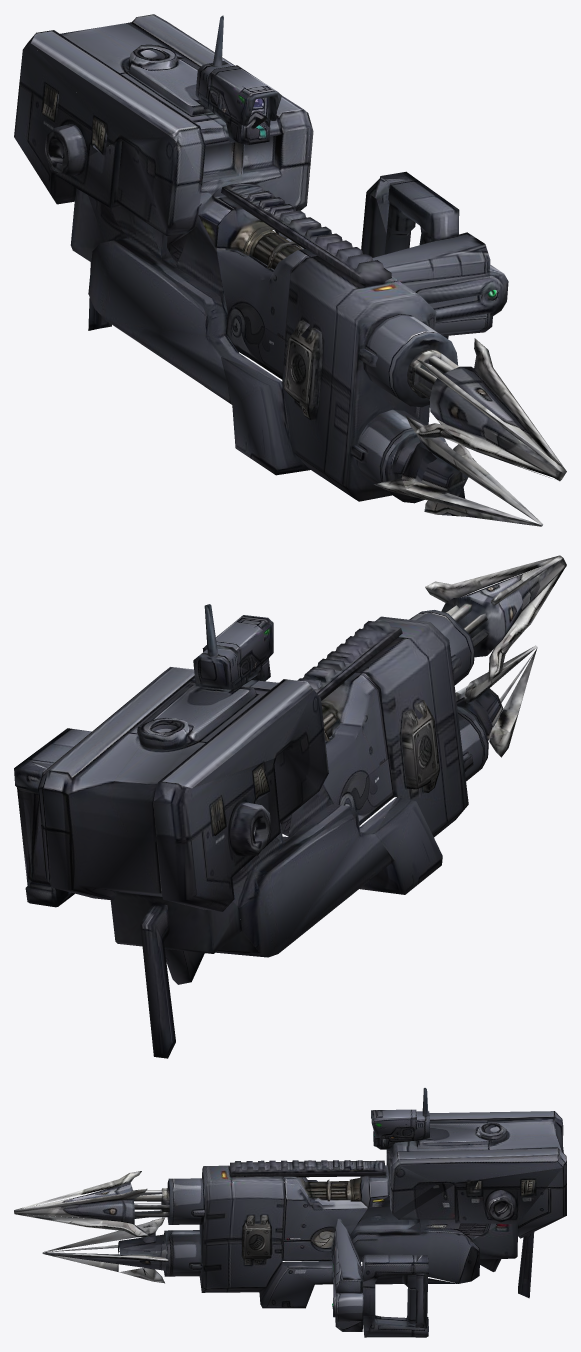
3 views of the same model, one above another, from view 1: azimuth 30°, elevation 25°; view 2: azimuth 150°, elevation 25°; view 3: azimuth 270°, elevation 25° (orthographic). The views are drawn at different scales.
Visible parts, largest first — view 1: gun; view 2: gun; view 3: gun.
Boxes of the visible parts, x1,y1,x2,y2 form: gun: (14, 14, 566, 526); gun: (14, 555, 566, 1058); gun: (14, 1088, 566, 1337).
Size of the model in its own units: 0.8449 by 0.9229 by 2.1.
1 material, 1 textured.
